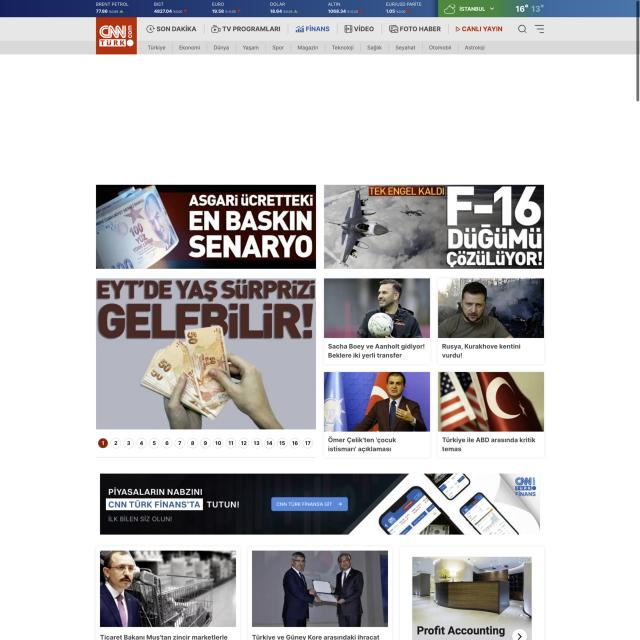logo: (96, 17, 137, 54)
navigation: (144, 20, 509, 38), (144, 42, 498, 54), (533, 21, 547, 35)
